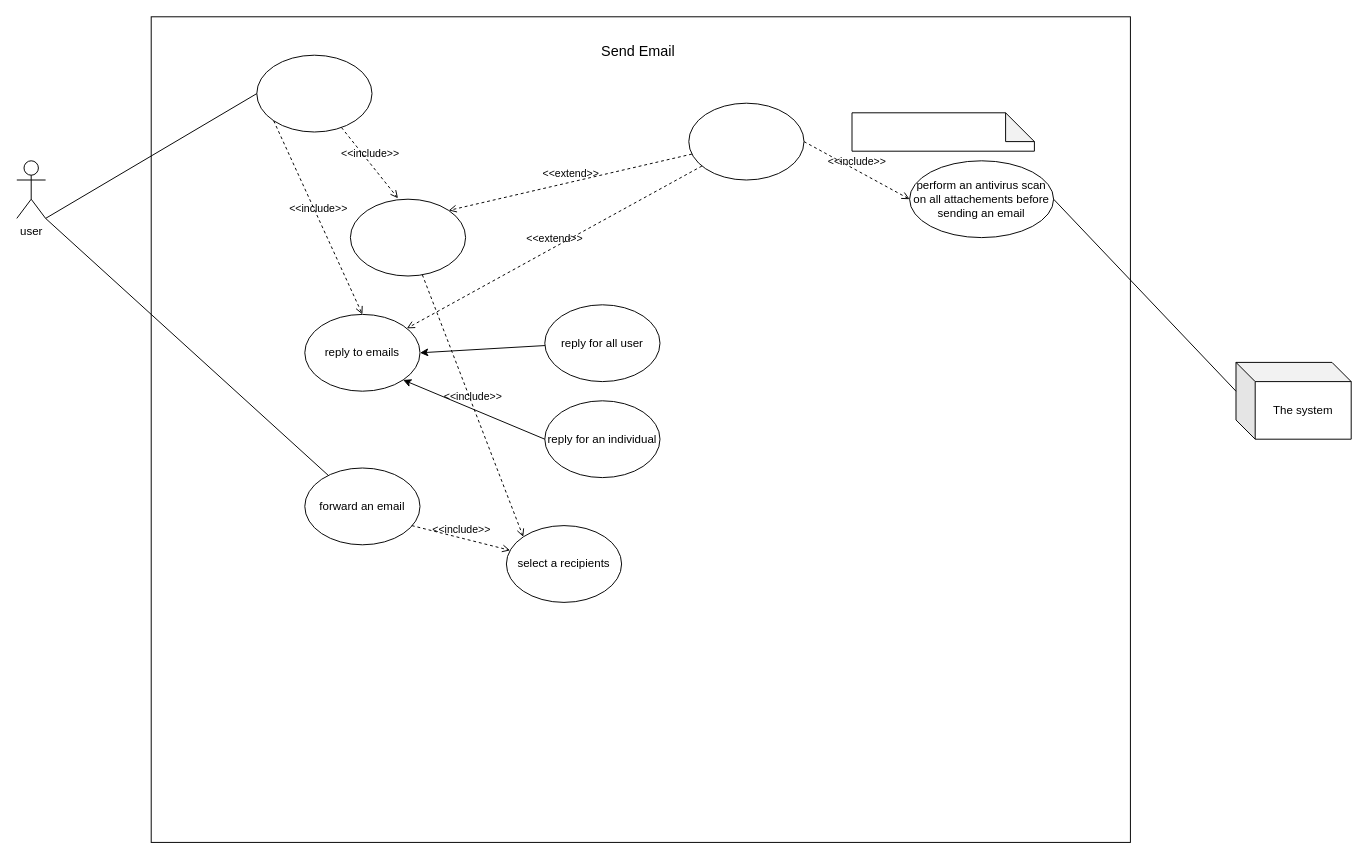
The diagram is 1368 pixels wide and 859 high, and some of its shapes have lost their labels. The shapes that lost their labels are listed below. From the top down, each one's centre as x and y in pixels, then its label:
point 314,93: compose an email
point 746,141: attache files
point 942,131: The email has attached files
point 407,237: send an email
